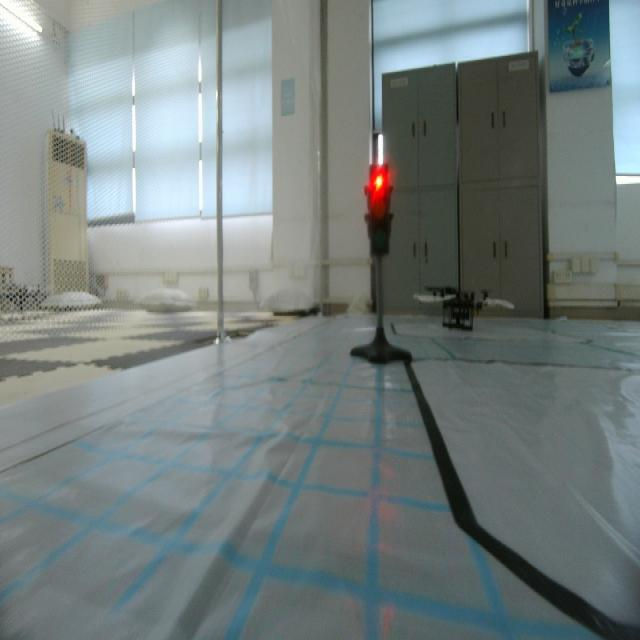red: (363, 158, 393, 260)
